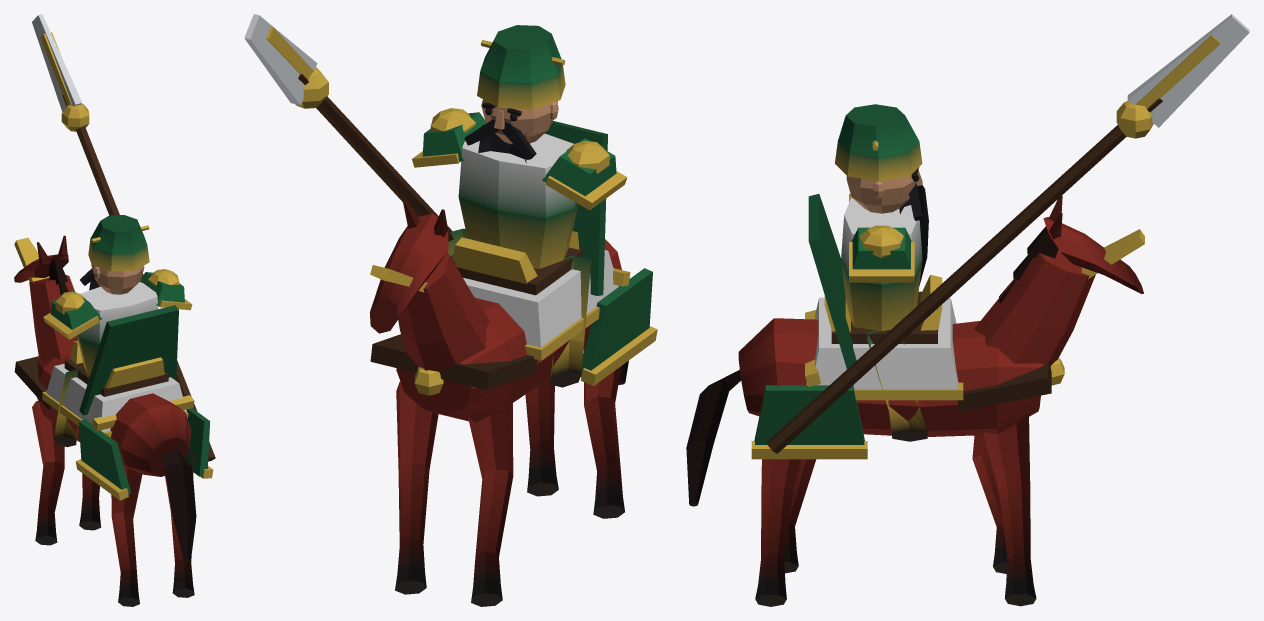
Rendered from guan_yu.glb.
3 views of the same model, side by side, from view 1: azimuth 30°, elevation 25°; view 2: azimuth 150°, elevation 25°; view 3: azimuth 270°, elevation 25° (orthographic). The views are drawn at different scales.
Parts seen in each view (by area): view 1: guan_yu; view 2: guan_yu; view 3: guan_yu.
Boxes of the visible parts, <box> form: guan_yu: <box>14,14,215,606</box>; guan_yu: <box>244,14,657,606</box>; guan_yu: <box>686,14,1249,606</box>.
Bounding box in the file's own units: 0.6322 × 2.12 × 1.8.
